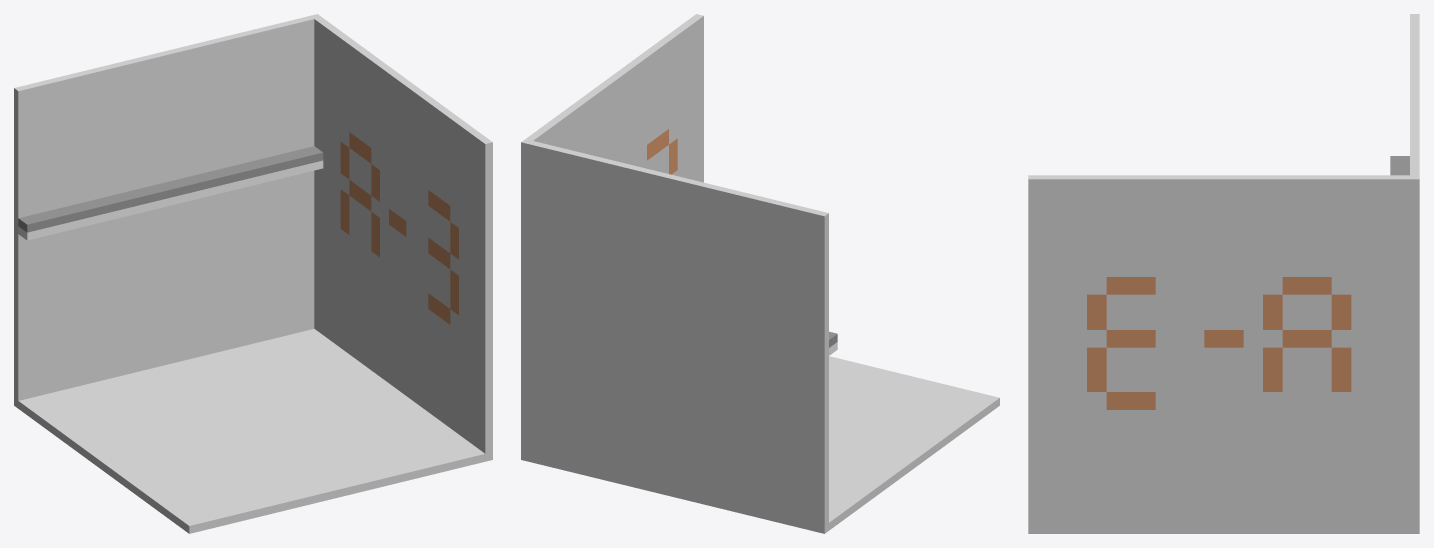
File: Wall_Corner(Ver_1_Number 3).obj
3 renders of one model, left to right at view 1: azimuth 30°, elevation 25°; view 2: azimuth 150°, elevation 25°; view 3: azimuth 270°, elevation 25°, orthographic. The views are drawn at different scales.
Bounding box in the file's own units: 4 × 4 × 4.
Materials: 1 (1 with a texture image).
